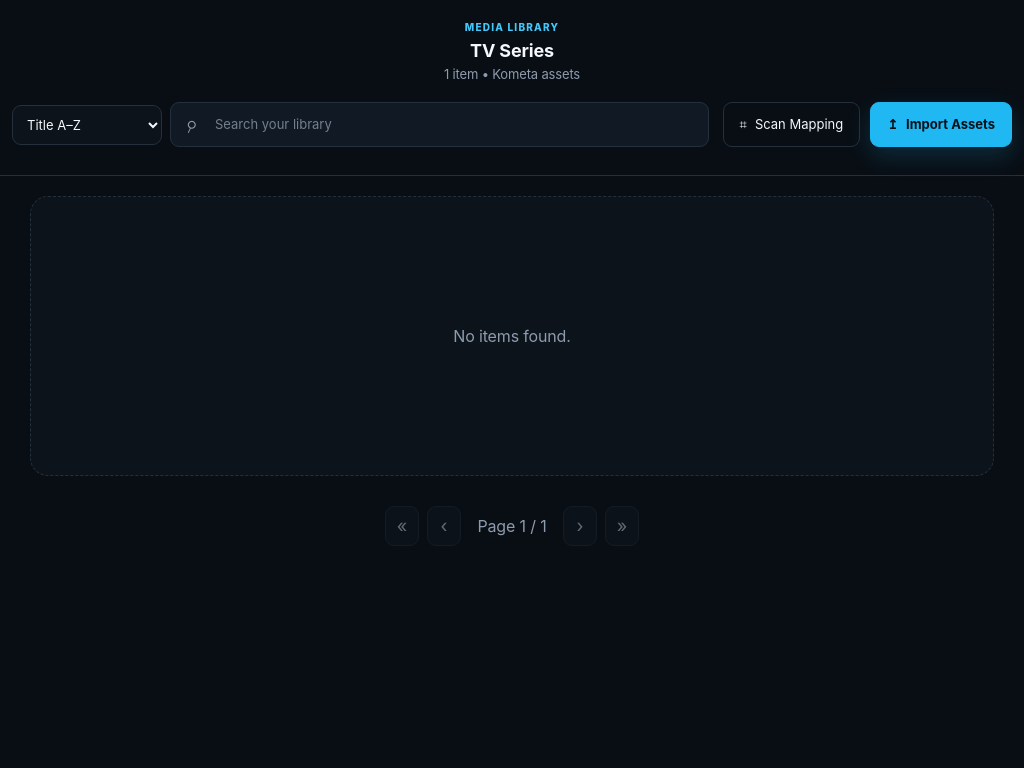
Test: LibraryPage › opens series and season choices for TV libraries
Click the button "↥ Import Assets" at (941, 125), box [870,102,1012,147]
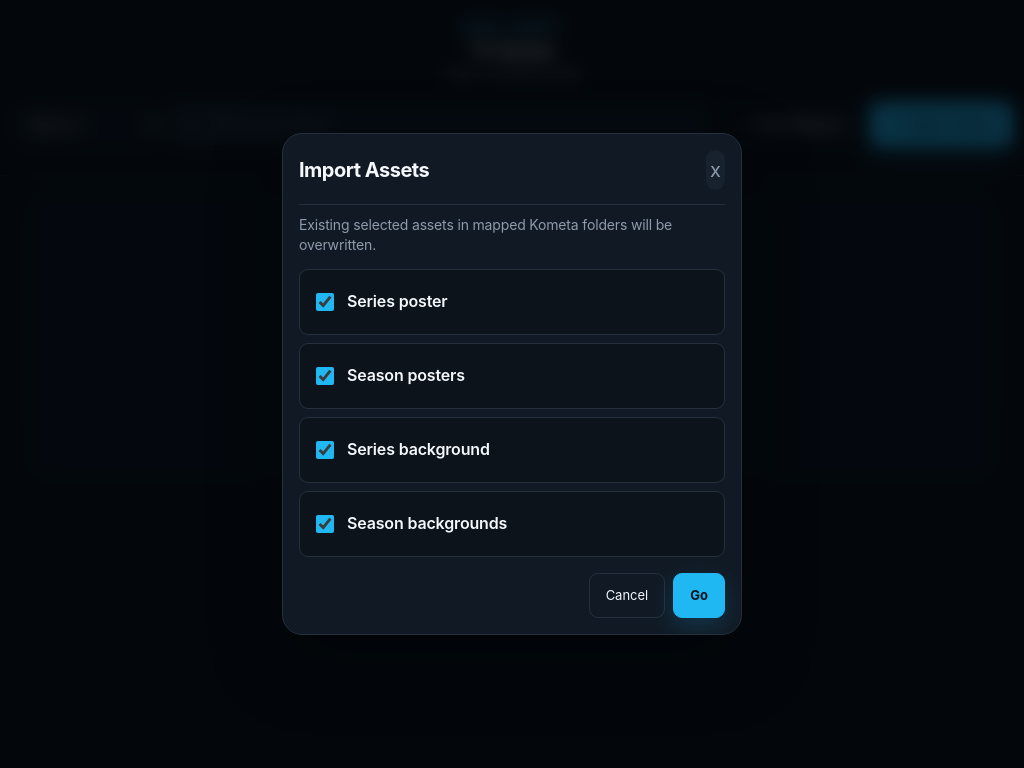
Check: the checkbox labelled "Series poster" is checked, box [316,282,334,322]
Check: the checkbox labelled "Season posters" is checked, box [316,356,334,396]
Check: the checkbox labelled "Series background" is checked, box [316,430,334,470]
